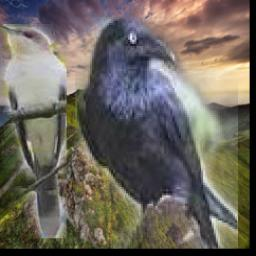Crow: (75, 17, 238, 249)
Cuckoo: (0, 25, 68, 239)
